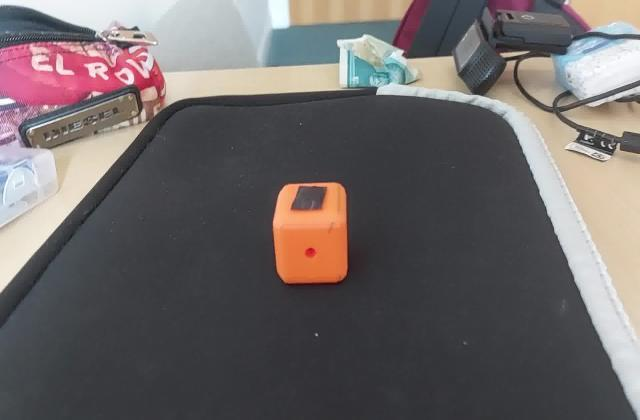black: (286, 183, 334, 213)
cube: (270, 178, 348, 288)
